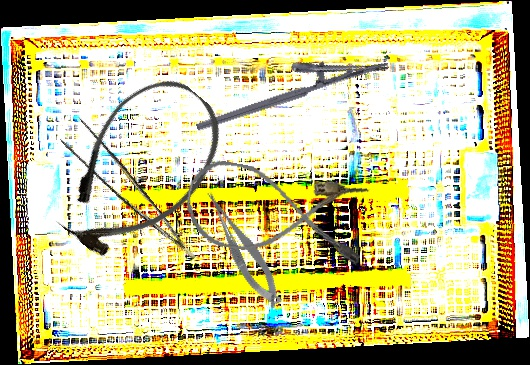Cannula: (33, 58, 245, 279), (180, 156, 372, 270)
Micro Scissor: (201, 181, 287, 316)
Needle Holder: (187, 34, 390, 133)
Tissue Forceps: (55, 111, 196, 279)
